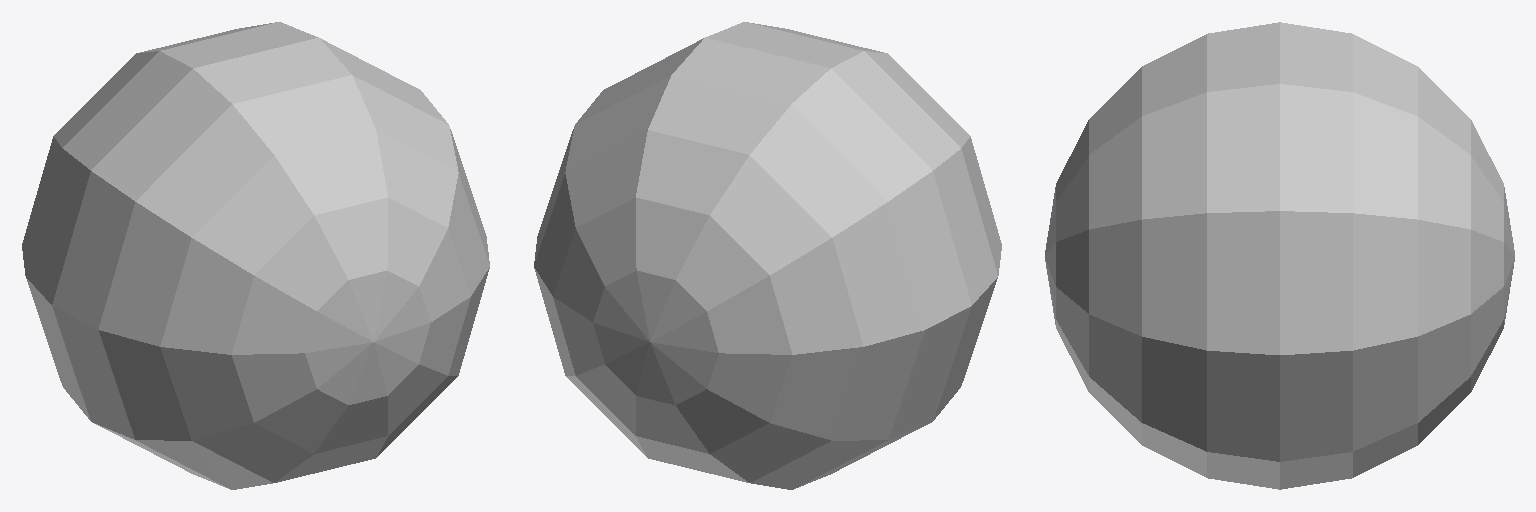
The model's file is slug3.obj.
3 views of the same model, side by side, from view 1: azimuth 30°, elevation 25°; view 2: azimuth 150°, elevation 25°; view 3: azimuth 270°, elevation 25° (orthographic).
Parts seen in each view (by area): view 1: pSphere1; view 2: pSphere1; view 3: pSphere1.
Boxes of the visible parts, box(x1,y1,x2,y2) form: pSphere1: box(22, 22, 489, 489); pSphere1: box(534, 22, 1001, 489); pSphere1: box(1045, 22, 1514, 489).
Size of the model in its own units: 0.06 by 0.0571 by 0.06.